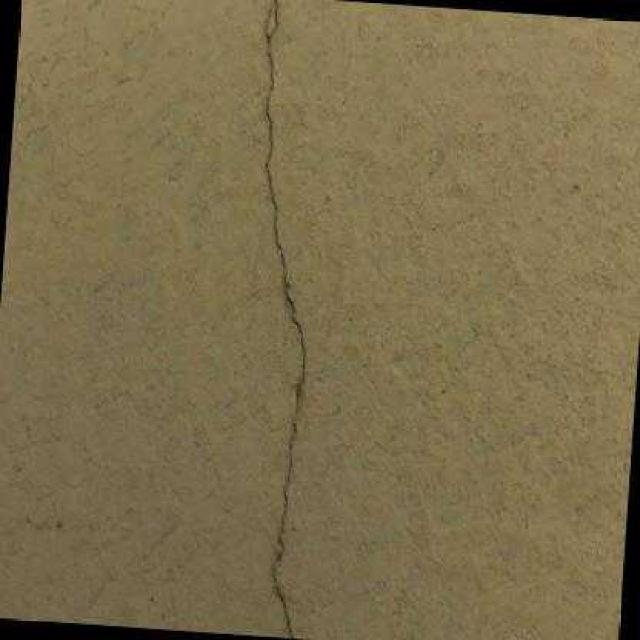D00: (266, 0, 305, 639)
